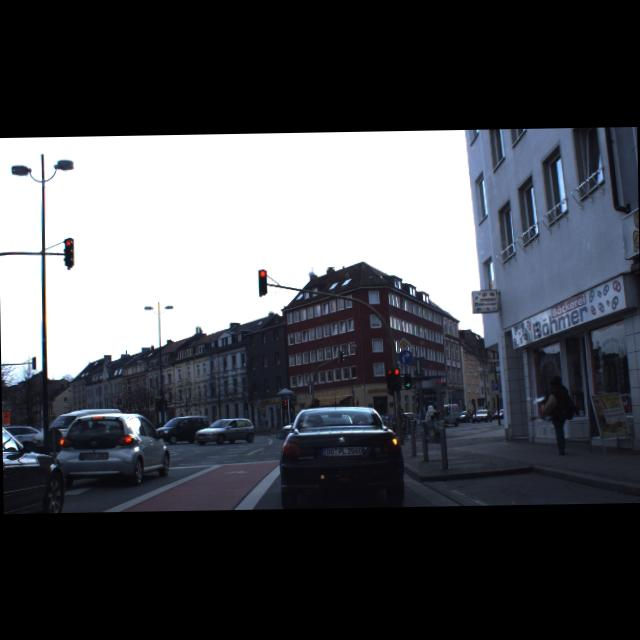mandatory: (397, 349, 412, 364)
other: (396, 336, 411, 351)
